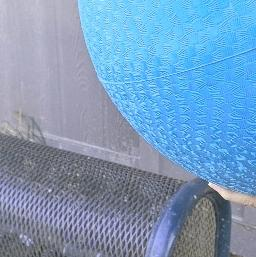algae: (75, 0, 256, 194)
